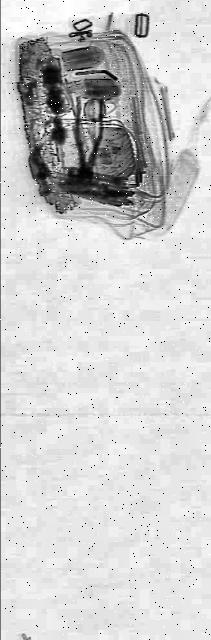Pliers: (70, 89, 106, 205)
